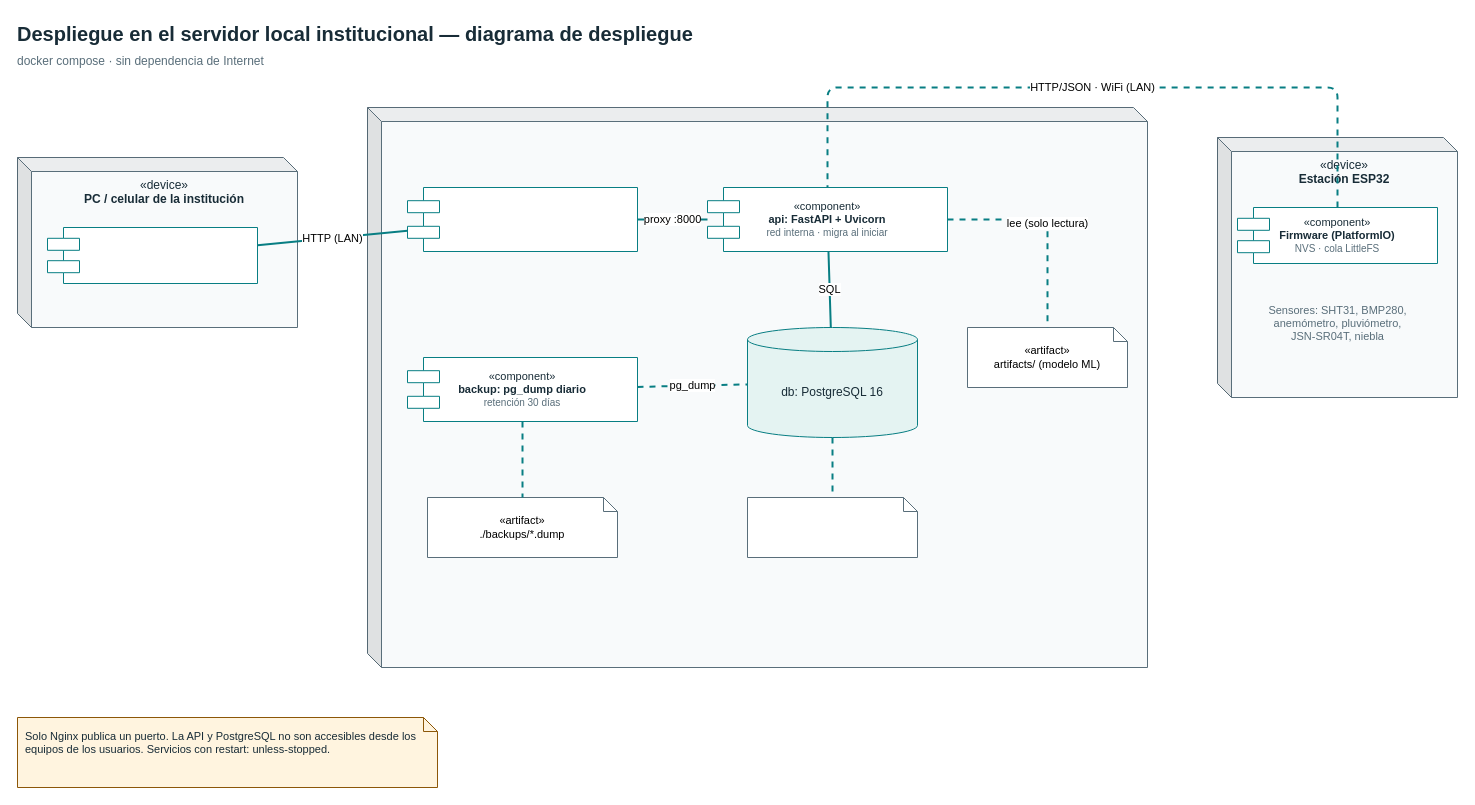
The diagram is 1475 pixels wide and 805 high, and some of its shapes have lost their labels. The box of each missing label's shape, as (x1, y1, x2, y2) in pixels:
«artifact» volumen pgdata: (746, 496, 918, 558)
«component» Navegador web SPA React: (46, 226, 258, 284)
«component» web: Nginx puerto 80 · SPA + proxy /api, /docs: (406, 186, 638, 252)
«device» Servidor local (Docker Compose): (366, 106, 1148, 668)
